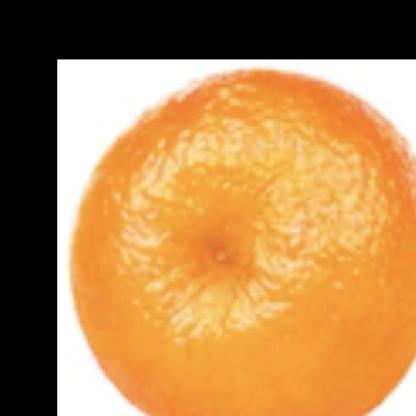rotten: (69, 72, 416, 416)
